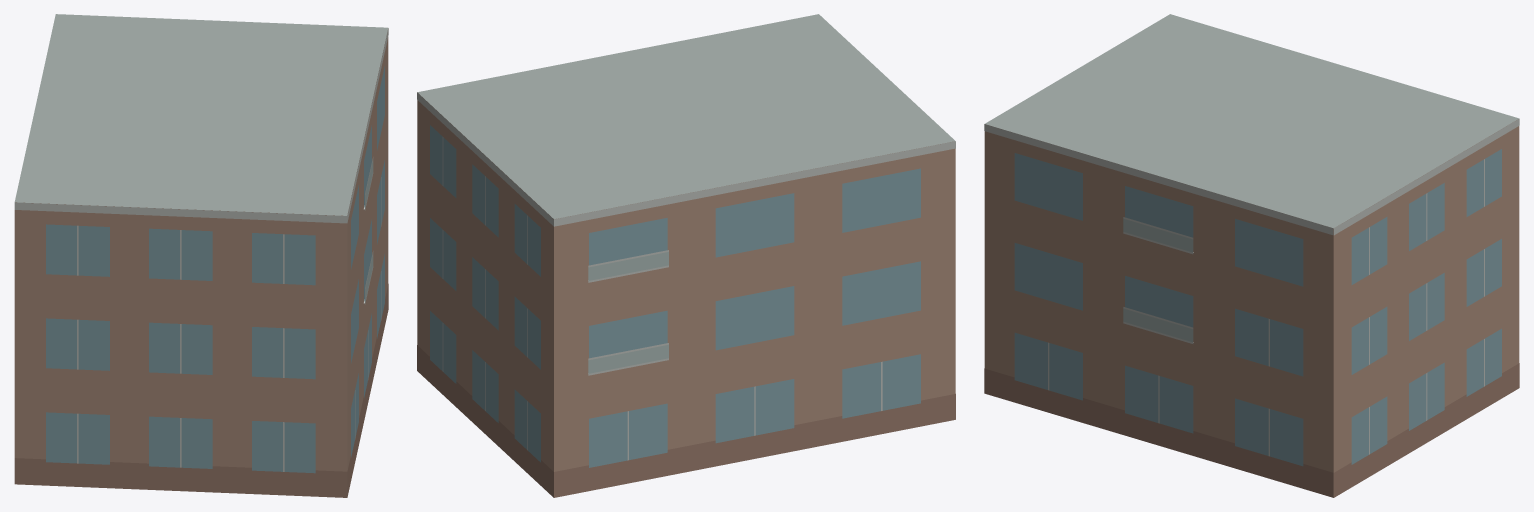
File: survey-upis-32700477.glb
3 renders of one model, left to right at view 1: azimuth 30°, elevation 25°; view 2: azimuth 150°, elevation 25°; view 3: azimuth 270°, elevation 25°, orthographic. The views are drawn at different scales.
Parts seen in each view (by area): view 1: survey-upis-32700477.tmp; view 2: survey-upis-32700477.tmp; view 3: survey-upis-32700477.tmp.
Part boxes in pixels (x1,y1,x2,y2): survey-upis-32700477.tmp: [14, 14, 388, 497]; survey-upis-32700477.tmp: [417, 14, 955, 497]; survey-upis-32700477.tmp: [984, 14, 1519, 497].
Bounding box in the file's own units: 15.61 × 9.15 × 16.47.
